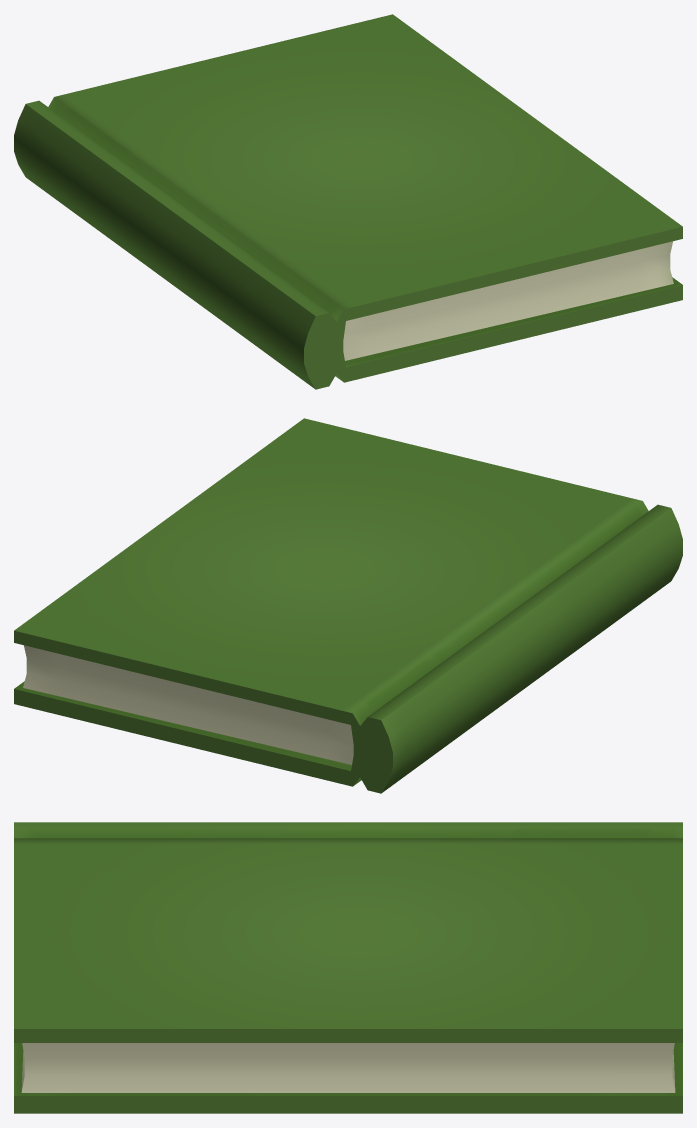
The model's file is Book_70s_v1.fbx.
3 views of the same model, one above another, from view 1: azimuth 30°, elevation 25°; view 2: azimuth 150°, elevation 25°; view 3: azimuth 270°, elevation 25° (orthographic). The views are drawn at different scales.
Visible parts, largest first — view 1: P_Book_70s_1; view 2: P_Book_70s_1; view 3: P_Book_70s_1.
Boxes of the visible parts, x1=… form: P_Book_70s_1: x1=14, y1=14, x2=682, y2=389; P_Book_70s_1: x1=14, y1=418, x2=682, y2=793; P_Book_70s_1: x1=14, y1=822, x2=682, y2=1113.
Size of the model in its own units: 1.96 by 0.3629 by 2.6.
